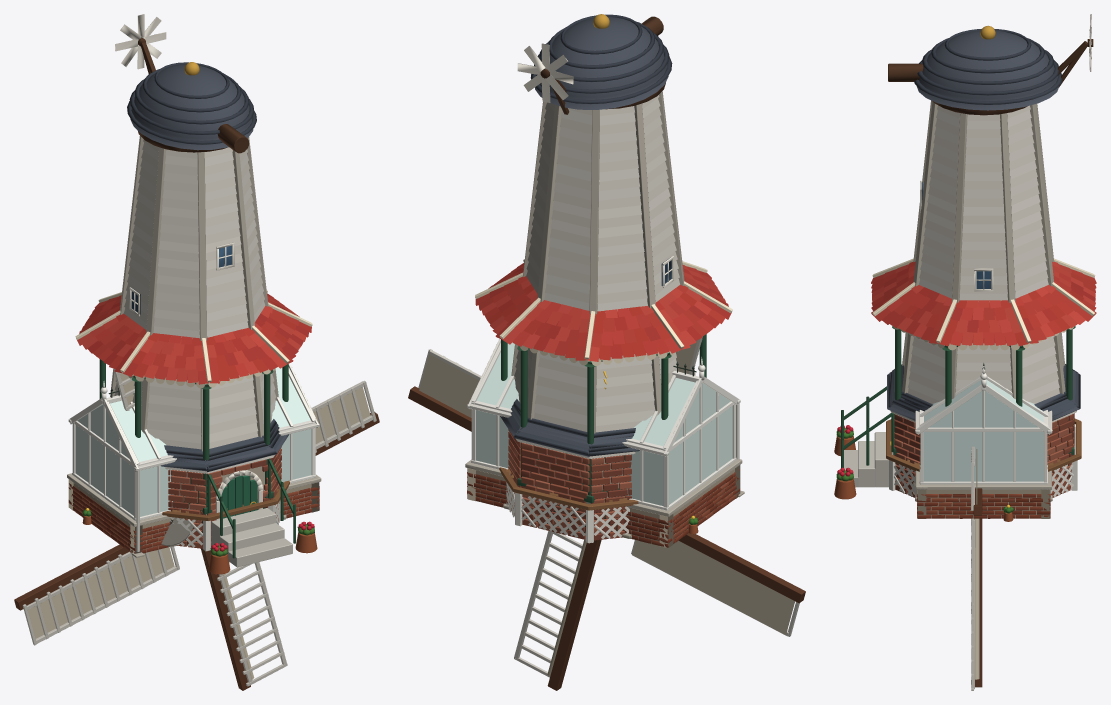
File: decor.glb
3 views of the same model, side by side, from view 1: azimuth 30°, elevation 25°; view 2: azimuth 150°, elevation 25°; view 3: azimuth 270°, elevation 25° (orthographic). The views are drawn at different scales.
Parts seen in each view (by area): view 1: windmill, bandstand, greenhouse, sails; view 2: windmill, greenhouse, bandstand, sails; view 3: windmill, bandstand, greenhouse, sails.
Part boxes in pixels (<box>): windmill: <box>110,14,289,548</box>; bandstand: <box>75,290,317,574</box>; greenhouse: <box>67,363,321,557</box>; sails: <box>14,368,379,690</box>; windmill: <box>500,14,695,540</box>; greenhouse: <box>465,338,744,547</box>; bandstand: <box>475,259,732,543</box>; sails: <box>408,336,805,690</box>; windmill: <box>887,14,1093,497</box>; bandstand: <box>834,258,1096,499</box>; greenhouse: <box>915,363,1052,521</box>; sails: <box>971,446,982,690</box>.
Bounding box in the file's own units: 5.99 × 10.18 × 3.74.
